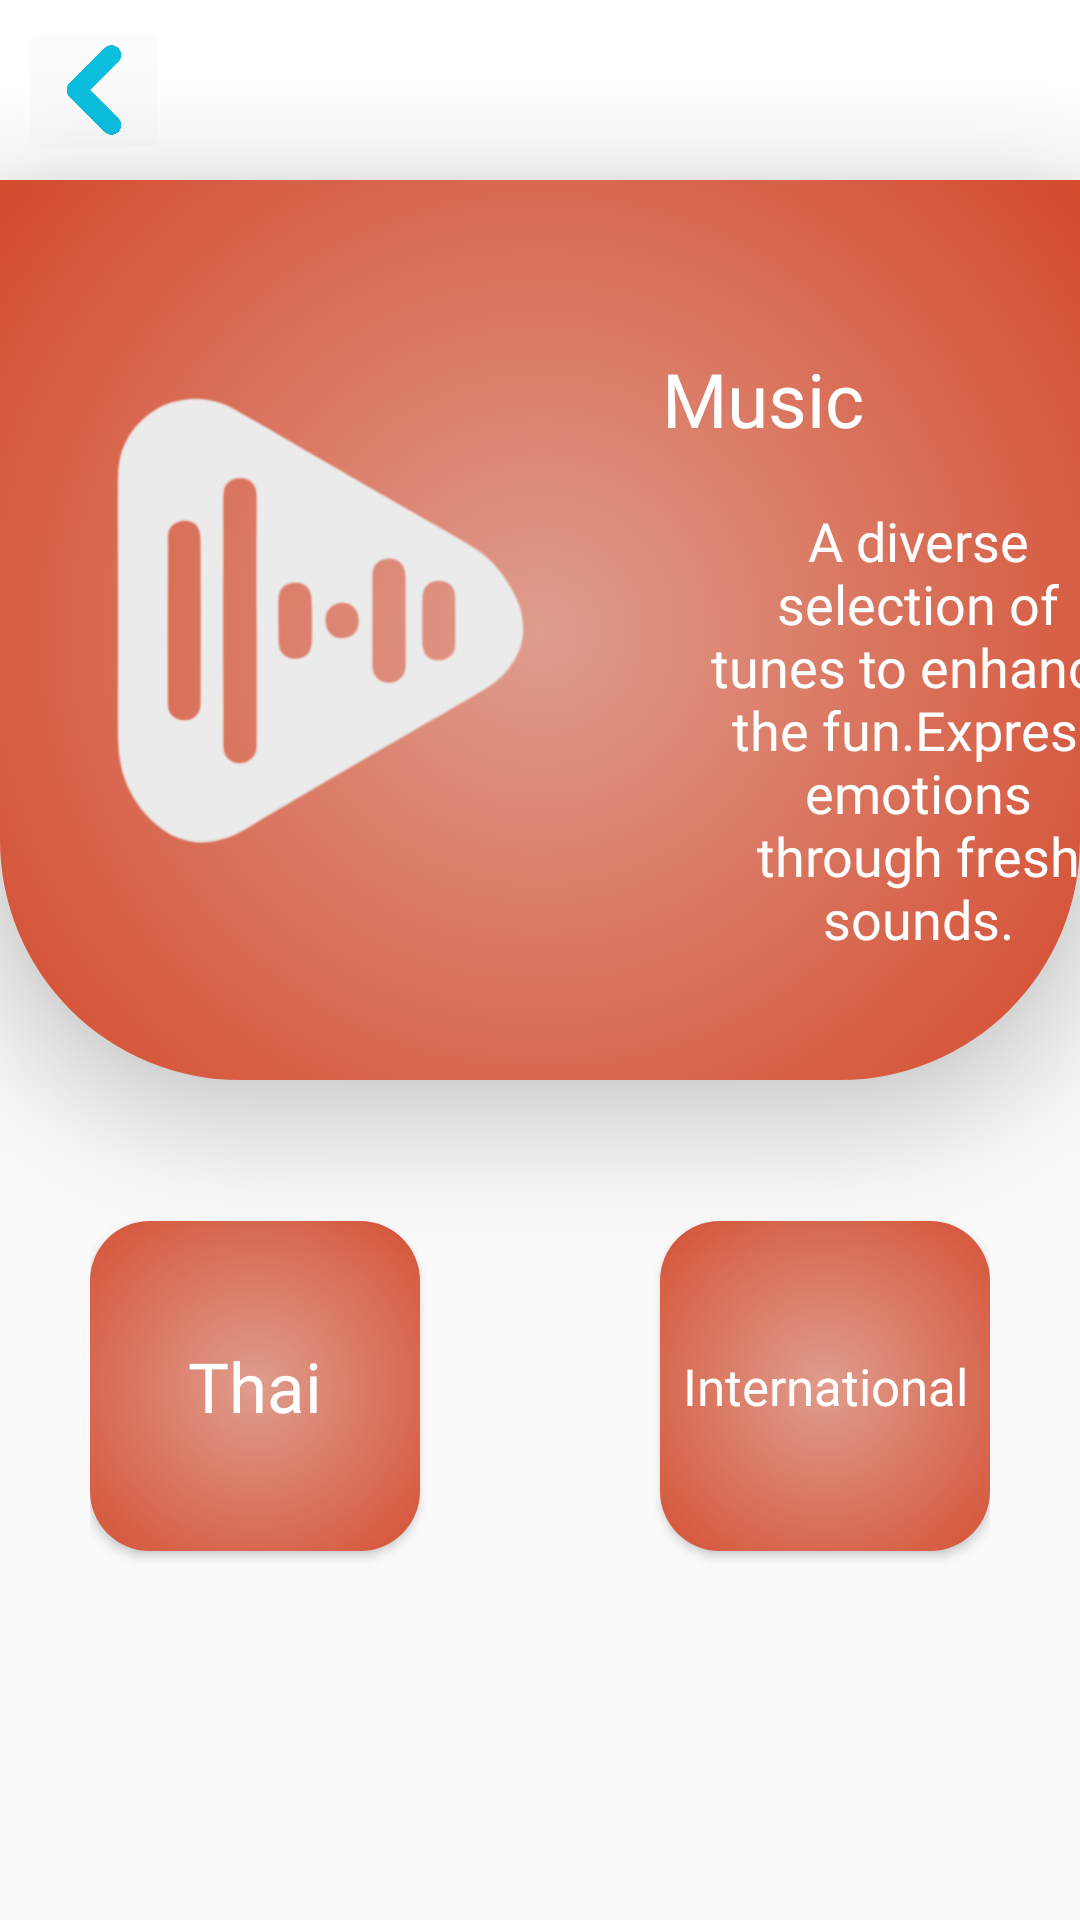

Named icons in this screenshot (1080 x 1920) and their bounding boxes, (x1=x1, y1=y1, x2=x2, y2=y2):
back: (x1=67, y1=45, x2=121, y2=135)
